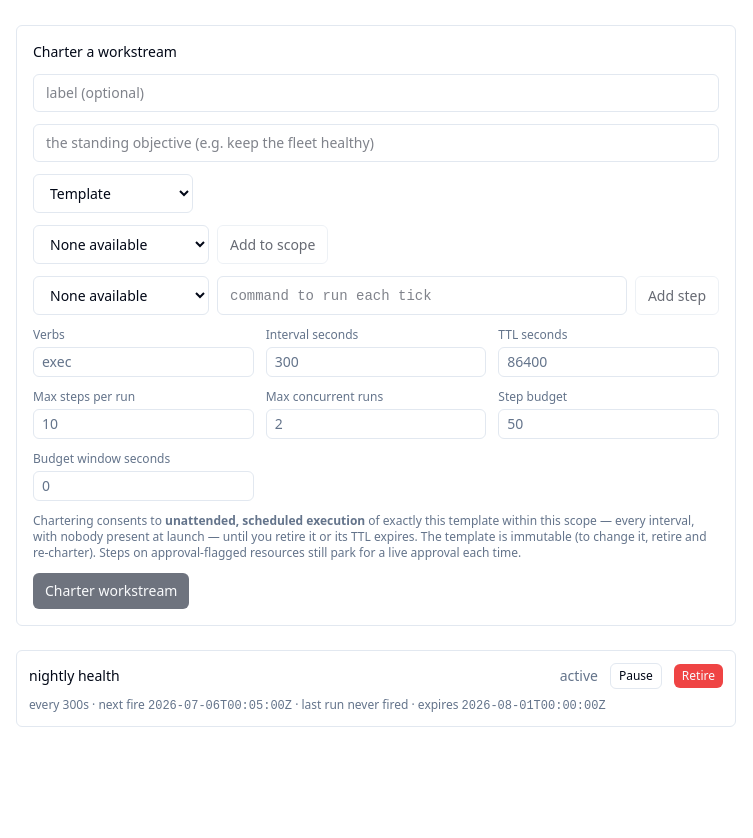
Scenario: Workstreams route › lists the charter's context sources with their staleness signal (active/errored + never-indexed)
Click the button "nightly health" at (74, 676), box x1=29 y1=666 x2=120 y2=686
(page scrolled)
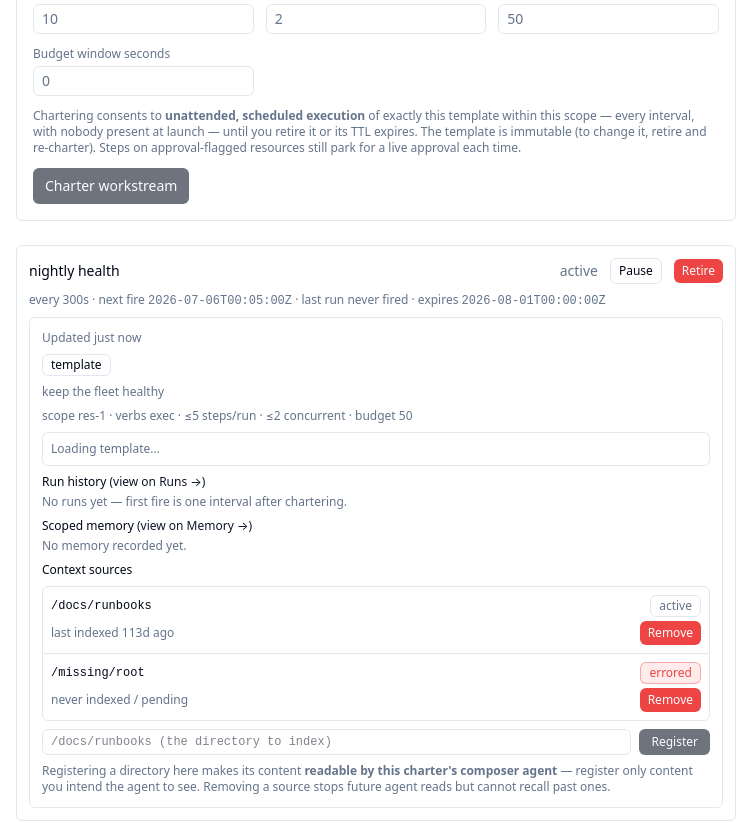
Check: the text "/docs/runbooks" is shown, box x1=51 y1=598 x2=152 y2=614
Check: the text "active" in the row of "/docs/runbooks" is shown, box x1=659 y1=597 x2=692 y2=614
Check: the text "/missing/root" is shown, box x1=51 y1=665 x2=145 y2=681
